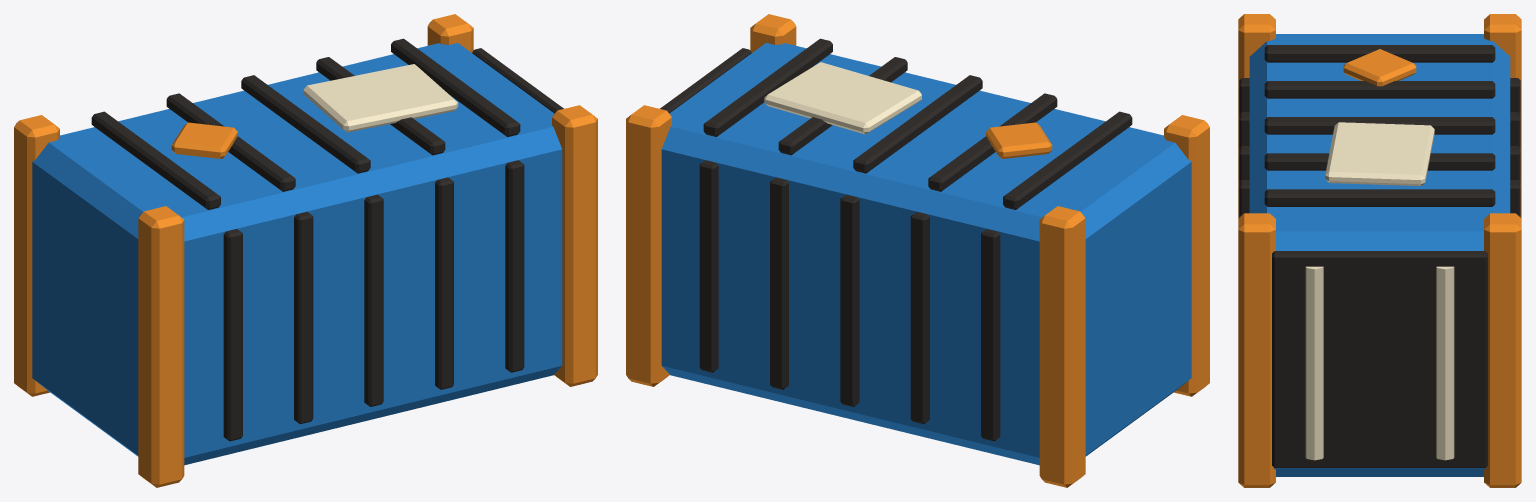
Rendered from modular.glb.
3 renders of one model, left to right at view 1: azimuth 30°, elevation 25°; view 2: azimuth 150°, elevation 25°; view 3: azimuth 270°, elevation 25°, orthographic.
Parts seen in each view (by area): view 1: modular-shipping-container, modular-corner-post-0, modular-corner-post-2, modular-roof-stencil, modular-corner-post-1, modular-side-rib-0-2, modular-side-rib-0-4, modular-side-rib-0-1, modular-side-rib-0-0, modular-side-rib-0-3, modular-roof-rib-0, modular-roof-rib-2 (+6 smaller); view 2: modular-shipping-container, modular-corner-post-1, modular-corner-post-3, modular-roof-stencil, modular-corner-post-0, modular-side-rib-1-2, modular-side-rib-1-4, modular-side-rib-1-1, modular-side-rib-1-0, modular-side-rib-1-3, modular-roof-rib-0, modular-roof-rib-2 (+6 smaller); view 3: modular-door-divider, modular-shipping-container, modular-corner-post-2, modular-corner-post-3, modular-roof-stencil, modular-roof-rib-4, modular-roof-rib-1, modular-roof-rib-0, modular-locking-bar-0, modular-locking-bar-1, modular-roof-rib-2, modular-roof-rib-3 (+11 smaller).
Part boxes in pixels (x1,y1,x2,y2): modular-shipping-container: [32, 43, 562, 465]; modular-corner-post-0: [138, 206, 184, 487]; modular-corner-post-2: [552, 105, 597, 386]; modular-roof-stencil: [303, 64, 458, 132]; modular-corner-post-1: [14, 115, 59, 396]; modular-side-rib-0-2: [364, 194, 383, 406]; modular-side-rib-0-4: [505, 160, 524, 372]; modular-side-rib-0-1: [294, 212, 313, 424]; modular-side-rib-0-0: [223, 229, 242, 441]; modular-side-rib-0-3: [435, 177, 453, 389]; modular-roof-rib-0: [91, 111, 220, 209]; modular-roof-rib-2: [241, 75, 370, 173]; modular-shipping-container: [661, 43, 1191, 465]; modular-corner-post-1: [1039, 206, 1085, 487]; modular-corner-post-3: [626, 105, 671, 386]; modular-roof-stencil: [764, 62, 921, 134]; modular-corner-post-0: [1164, 115, 1209, 396]; modular-side-rib-1-2: [840, 194, 859, 406]; modular-side-rib-1-4: [699, 160, 718, 372]; modular-side-rib-1-1: [910, 212, 929, 424]; modular-side-rib-1-0: [981, 229, 1000, 441]; modular-side-rib-1-3: [770, 177, 788, 389]; modular-roof-rib-0: [1003, 111, 1132, 209]; modular-roof-rib-2: [853, 75, 982, 173]; modular-door-divider: [1272, 251, 1487, 467]; modular-shipping-container: [1249, 34, 1510, 476]; modular-corner-post-2: [1238, 213, 1275, 487]; modular-corner-post-3: [1484, 213, 1521, 487]; modular-roof-stencil: [1325, 122, 1434, 186]; modular-roof-rib-4: [1264, 189, 1495, 206]; modular-roof-rib-1: [1264, 81, 1495, 98]; modular-roof-rib-0: [1264, 45, 1495, 62]; modular-locking-bar-0: [1305, 266, 1323, 460]; modular-locking-bar-1: [1436, 266, 1454, 460]; modular-roof-rib-2: [1264, 117, 1495, 134]; modular-roof-rib-3: [1264, 153, 1495, 170].
Bounding box in the file's own units: 1.75 × 1 × 0.948.
